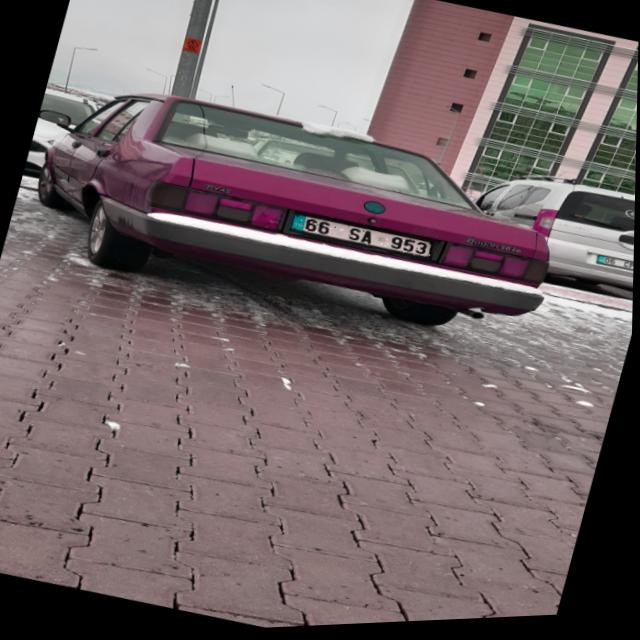license_plate: (290, 211, 435, 266)
